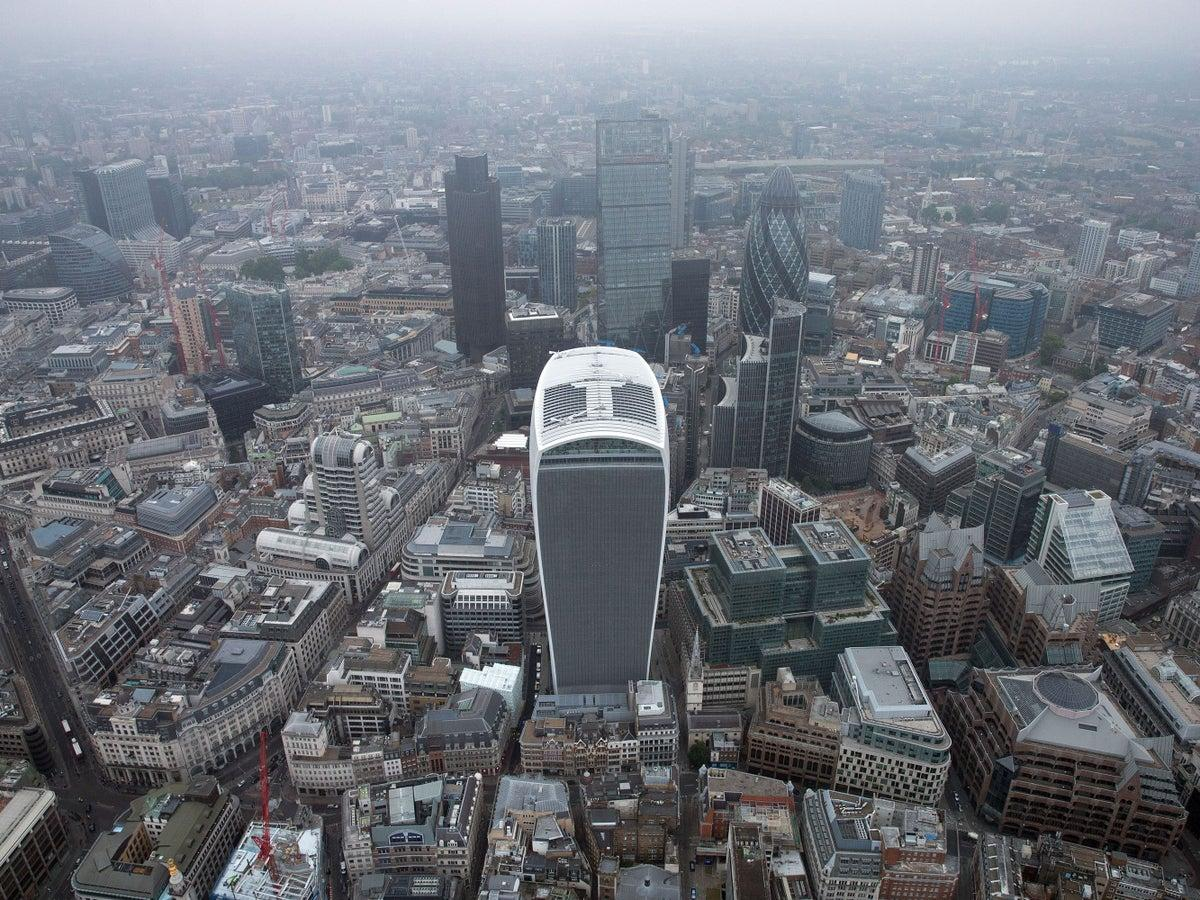Walkie talkie: (518, 327, 678, 696)
